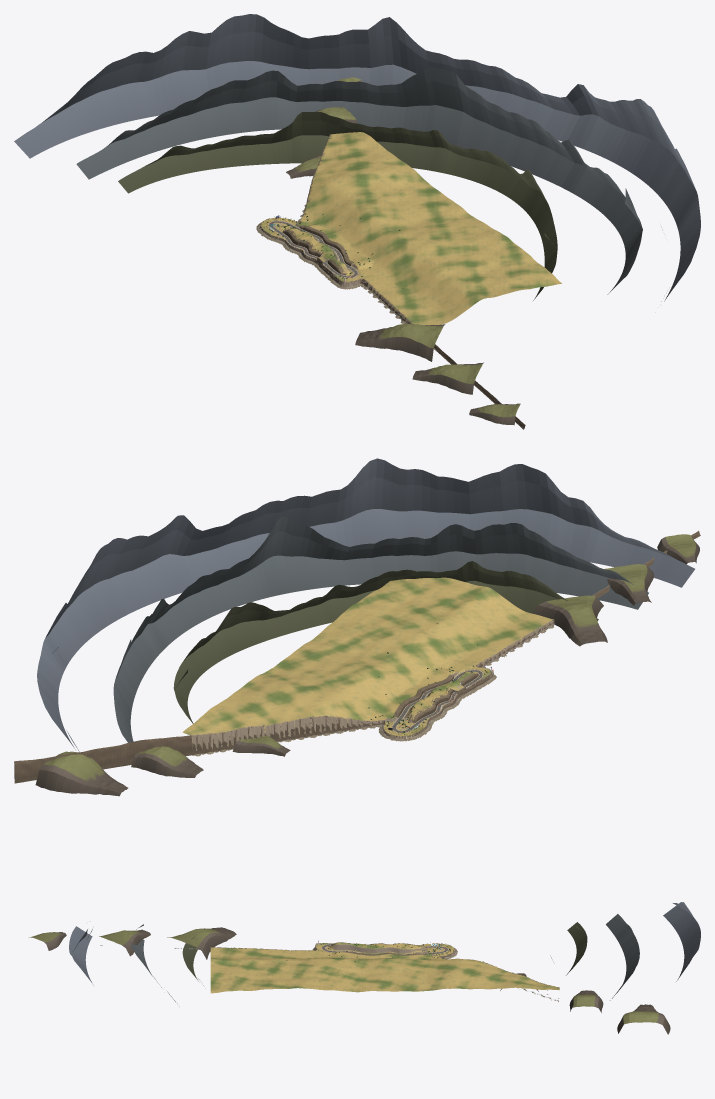
File: env_coast.glb
3 renders of one model, top to bottom at view 1: azimuth 30°, elevation 25°; view 2: azimuth 150°, elevation 25°; view 3: azimuth 270°, elevation 25°, orthographic. The views are drawn at different scales.
Visible parts, largest first — view 1: pc_horizon_2, terrain, pc_horizon_1, pc_horizon_0, pc_headlands, pc_seacliff, pc_cliffs; view 2: pc_horizon_2, terrain, pc_horizon_1, pc_horizon_0, pc_headlands, pc_seacliff, pc_cliffs; view 3: terrain, pc_headlands, pc_horizon_2, pc_horizon_1, pc_horizon_0.
Boxes of the visible parts, bbox=[...] form: pc_horizon_2: bbox=[14, 14, 700, 301]; terrain: bbox=[256, 132, 561, 325]; pc_horizon_1: bbox=[76, 66, 642, 294]; pc_horizon_0: bbox=[118, 112, 557, 300]; pc_headlands: bbox=[286, 77, 520, 425]; pc_seacliff: bbox=[259, 224, 525, 429]; pc_cliffs: bbox=[282, 225, 354, 275]; pc_horizon_2: bbox=[37, 458, 694, 751]; terrain: bbox=[182, 577, 554, 756]; pc_horizon_1: bbox=[113, 516, 648, 756]; pc_horizon_0: bbox=[173, 561, 598, 723]; pc_headlands: bbox=[35, 534, 699, 796]; pc_seacliff: bbox=[14, 530, 700, 783]; pc_cliffs: bbox=[393, 672, 478, 723]; terrain: bbox=[210, 942, 559, 1001]; pc_headlands: bbox=[29, 927, 670, 1034]; pc_horizon_2: bbox=[69, 902, 700, 985]; pc_horizon_1: bbox=[130, 914, 639, 1003]; pc_horizon_0: bbox=[182, 922, 587, 985].
Size of the model in its own units: 2811 by 558 by 4567.
Materials: 44 (13 with a texture image).
